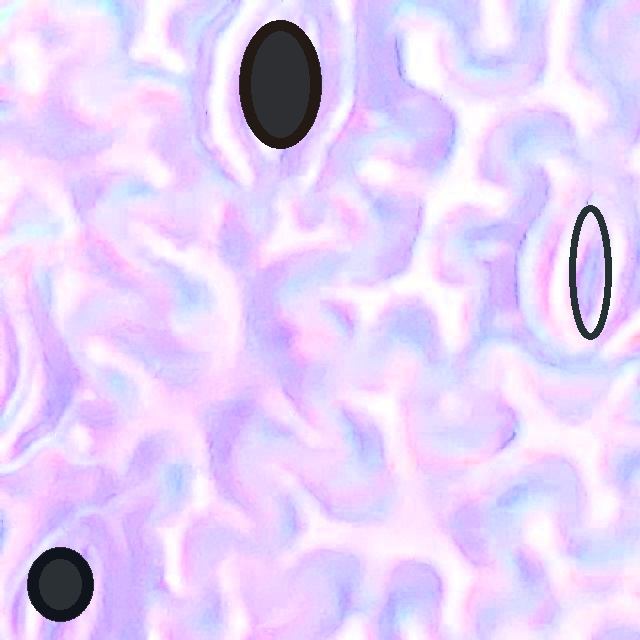open: (240, 21, 321, 148), (568, 205, 612, 340), (27, 547, 93, 621)
